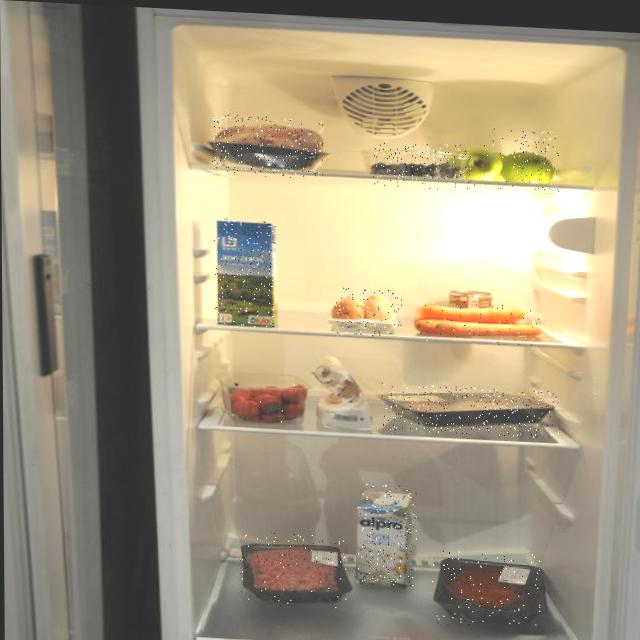apple: (493, 129, 559, 193), (446, 143, 513, 190)
carrots: (418, 299, 540, 347)
chicken: (212, 114, 323, 180)
eggs: (335, 287, 402, 338)
meat: (382, 383, 560, 439), (432, 549, 540, 632), (240, 530, 347, 610)
milk: (214, 217, 276, 328), (357, 483, 417, 586)
olive: (373, 140, 470, 191)
tomatoes: (231, 375, 314, 425)
